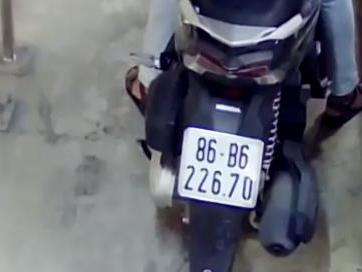num_plate: (177, 127, 263, 209)
